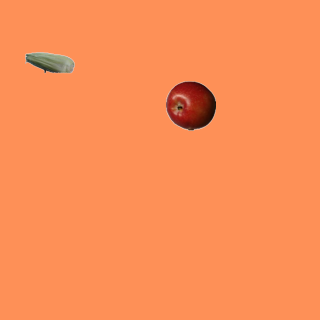Apple Braeburn: (165, 80, 215, 130)
Corn Husk: (24, 37, 74, 87)
